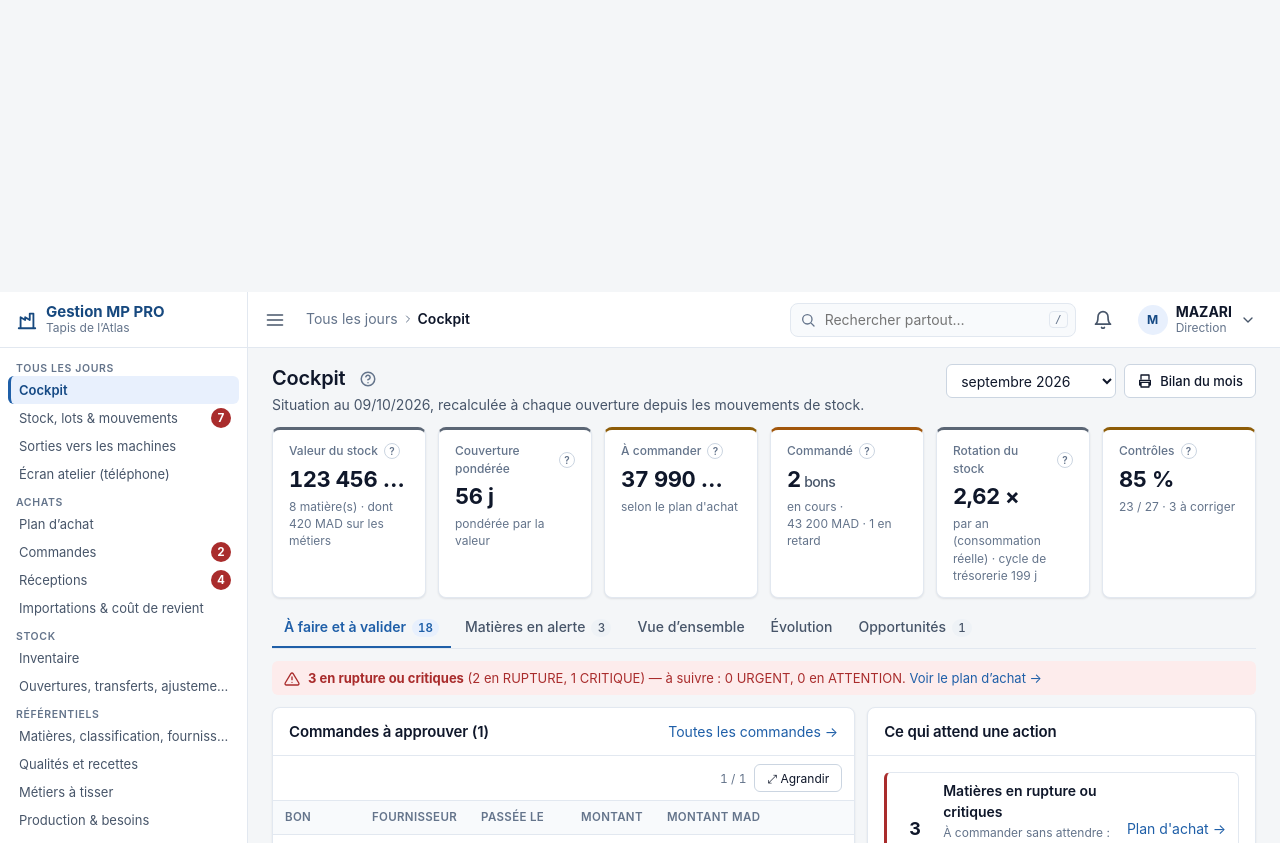
Scenario: Cockpit — indicateurs › affiche les valeurs reçues, sans les recalculer, avec la formule et le lien du serveur
(page scrolled)
expect the link "Valeur du stock" shows "123 456 MAD": met, box x1=272 y1=427 x2=426 y2=598
expect the link "Valeur du stock" does not show "67039": met, box x1=272 y1=427 x2=426 y2=598
Click the button named "formule".
click(392, 451)  # box x1=384 y1=443 x2=400 y2=459
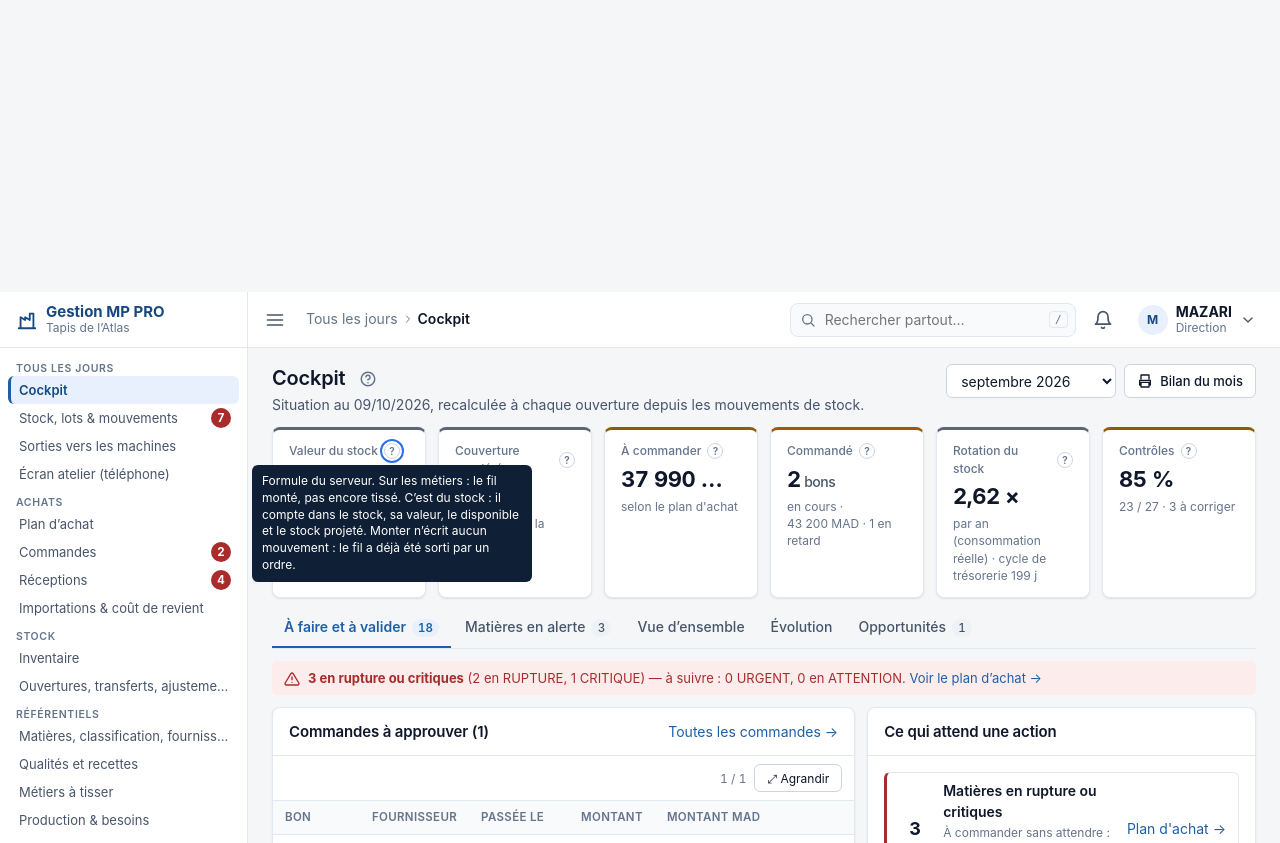
expect the link "Contrôles ? 85 % 23 / 27 · 3 à corriger" is shown: met, box x1=1102 y1=427 x2=1256 y2=598
expect the tooltip "Formule du serveur. Sur les métiers" is shown: met, box x1=262 y1=473 x2=519 y2=572
